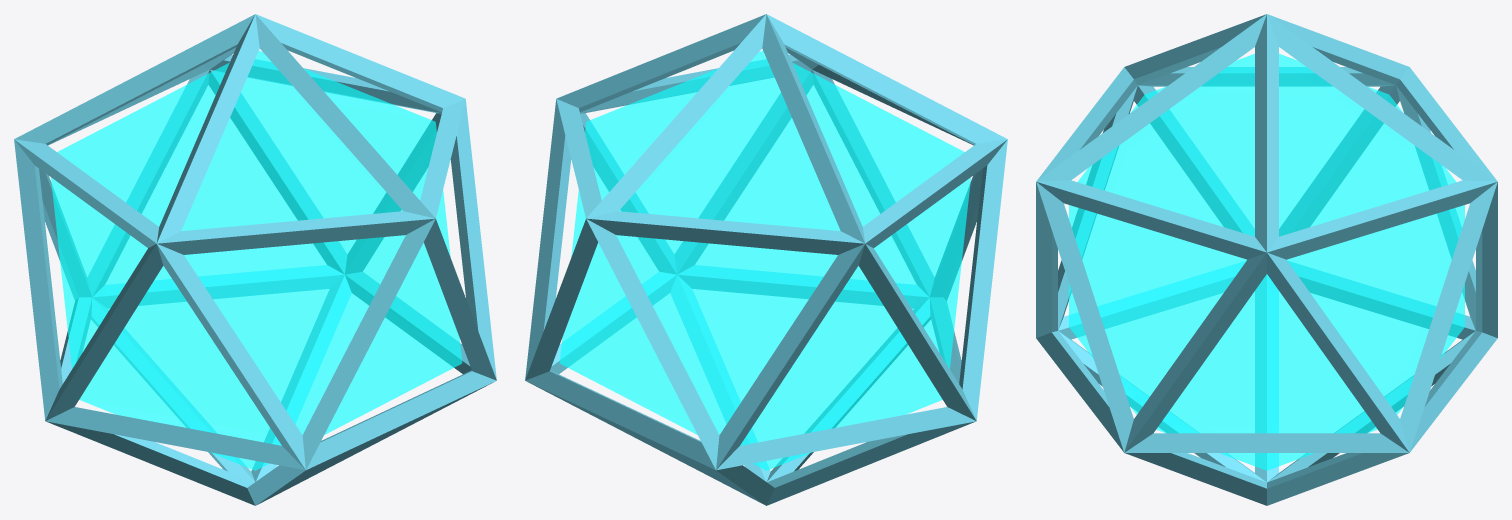
The model's file is cyber_shield.glb.
3 views of the same model, side by side, from view 1: azimuth 30°, elevation 25°; view 2: azimuth 150°, elevation 25°; view 3: azimuth 270°, elevation 25° (orthographic).
Visible parts, largest first — view 1: cyber_shield; view 2: cyber_shield; view 3: cyber_shield.
Boxes of the visible parts, box(x1,y1,x2,y2) form: cyber_shield: box(14, 14, 496, 505); cyber_shield: box(525, 14, 1007, 505); cyber_shield: box(1036, 14, 1497, 505).
Bounding box in the file's own units: 1.88 × 2.1 × 1.79.
